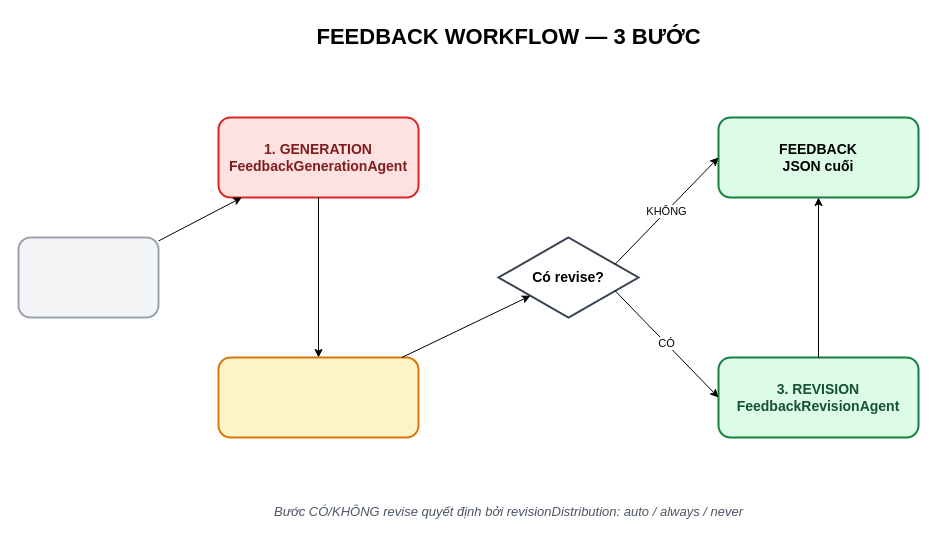
Some shapes in this 936 by 544 pixel diagram are drawn without their labels. Here are the shapes that lost their labels. From the top down, the centre of each, then its label:
At point (88, 277): "REQUEST".
At point (318, 397): "2. EVALUATION FeedbackEvaluationAgent".
